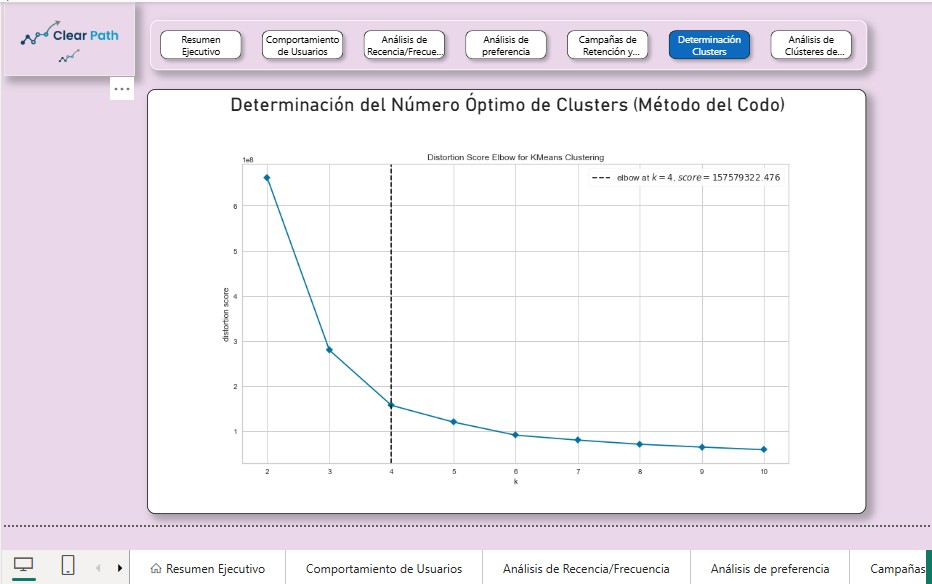

The page's visual inventory and layout, read from the dashboard file:
{"tool":"powerbi","page":{"name":"Determinación Clusters","canvas":[1280,720],"ordinal":5},"visuals":[{"type":"pythonVisual","title":"Determinación del Número Óptimo de Clusters (Método del Codo)","fields":{"Values":["churn.segmento_riesgo","churn.dias_desde_ultima_apuesta","churn.antiguedad_dias","churn.n_apuestas_total","churn.tendencia_frecuencia","churn.monto_total_depositado_tx","churn.monto_promedio_apostado","churn.tasa_perdida","churn.sin_apuestas_obs","churn.sin_depositos_obs","CountNonNull(churn.id_usuario)"]},"box":[199.2,119.5,990.4,584.8],"z":0},{"type":"pageNavigator","box":[203.7,24.8,986.8,68.8],"z":1000},{"type":"image","box":[2.8,0,180.3,101.8],"z":2000}]}

Visuals, with their boxes on the page's 1280x720 design canvas (x1, y1, x2, y2). These are canvas units, not pixel positions in the 932x584 screenshot, which may show the page scaled, cropped or inside an application window:
"Determinación del Número Óptimo de Clusters (Método del Codo)" pythonVisual: <bbox>199, 120, 1190, 704</bbox>
pageNavigator: <bbox>204, 25, 1190, 94</bbox>
image: <bbox>3, 0, 183, 102</bbox>
